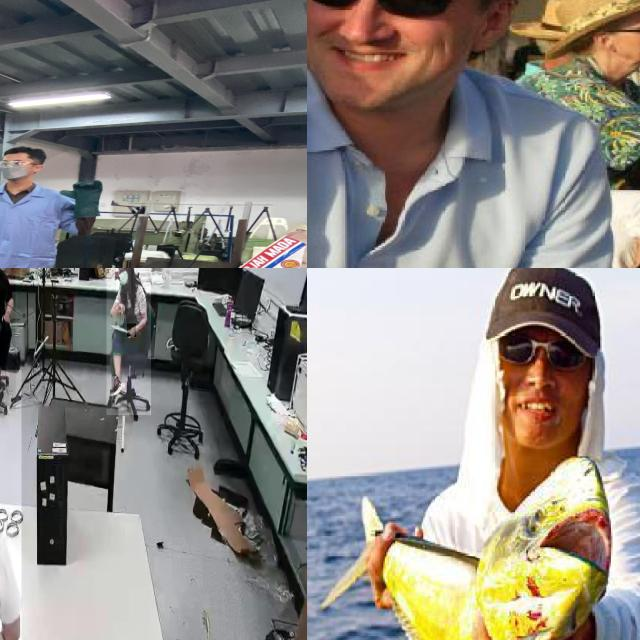No_Ear-Protection: (468, 0, 519, 54)
face_mask: (0, 159, 33, 180), (116, 268, 131, 293)
face_nomask: (307, 0, 455, 80), (496, 325, 587, 433), (629, 12, 640, 72)
glasses: (489, 326, 586, 364), (307, 0, 460, 21), (0, 158, 44, 168)
hand_glove: (54, 178, 106, 203)
hand_noglove: (344, 521, 424, 603), (456, 604, 602, 640), (127, 323, 137, 338), (115, 301, 125, 315), (0, 311, 10, 324)
head_nohelmet: (561, 0, 640, 36), (0, 143, 48, 160)
person: (307, 0, 601, 268), (519, 0, 640, 268), (0, 145, 111, 268), (106, 268, 151, 416), (0, 268, 16, 411)
shoes: (108, 374, 125, 395), (0, 366, 5, 393)
